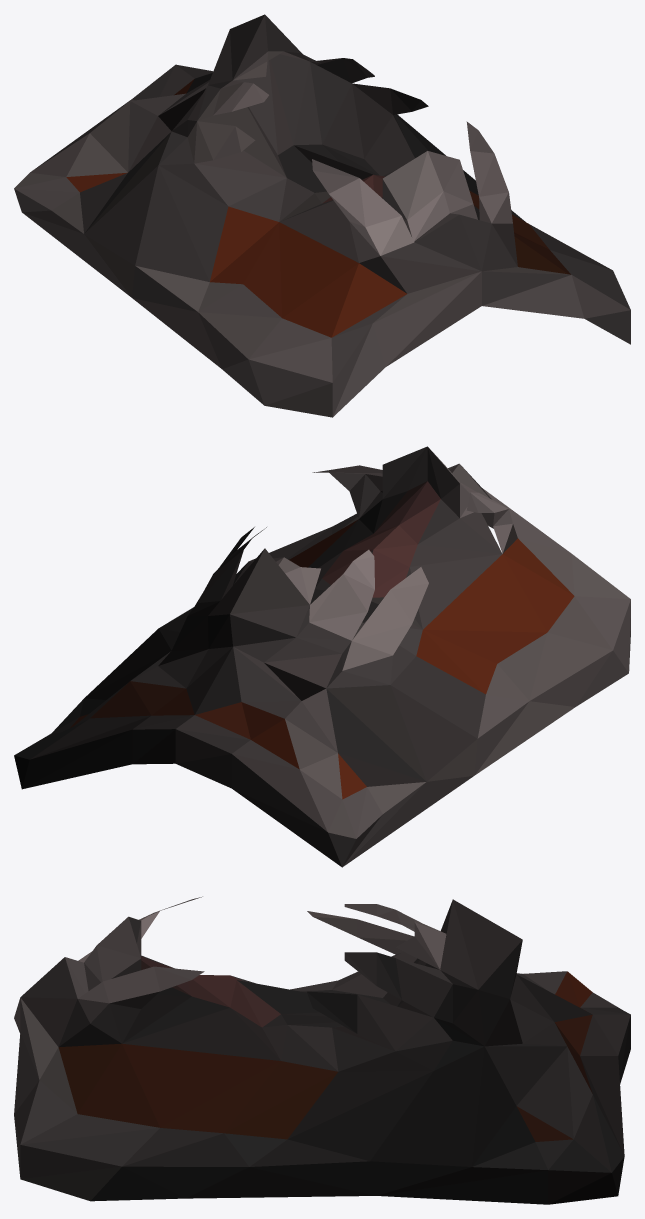
The model's file is dragon-kiteshield.obj.
3 views of the same model, one above another, from view 1: azimuth 30°, elevation 25°; view 2: azimuth 150°, elevation 25°; view 3: azimuth 270°, elevation 25° (orthographic).
Parts seen in each view (by area): view 1: Item Dragonfire shield 2026-09-24_19-51-42; view 2: Item Dragonfire shield 2026-09-24_19-51-42; view 3: Item Dragonfire shield 2026-09-24_19-51-42.
Part boxes in pixels (bbox=[...]): Item Dragonfire shield 2026-09-24_19-51-42: bbox=[14, 14, 630, 417]; Item Dragonfire shield 2026-09-24_19-51-42: bbox=[14, 446, 630, 867]; Item Dragonfire shield 2026-09-24_19-51-42: bbox=[14, 896, 630, 1204].
Size of the model in its own units: 66 by 39 by 97.
